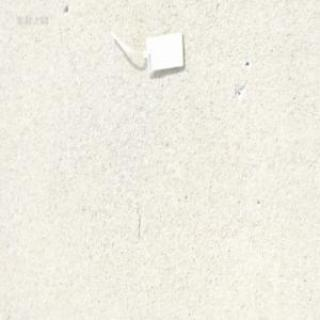LuggageTagtrack_idkeyframe: (107, 27, 185, 77)
